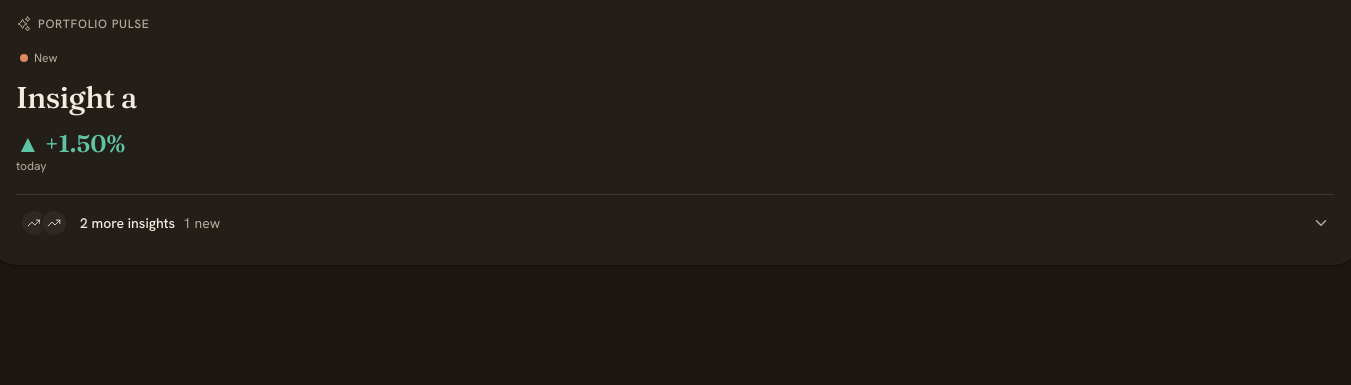
Test: headline: collapsed rows are inert until the disclosure opens
Click the button "2 more insights1 new".
click(108, 223)  # box [16, 194, 1334, 241]
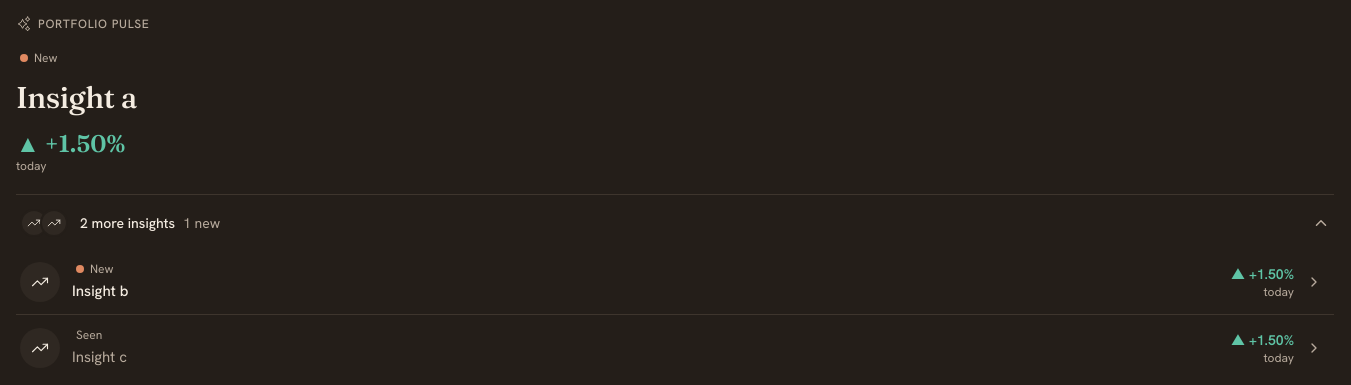
Expected: the button "2 more insights1 new" is expanded, [16, 194, 1334, 241]
